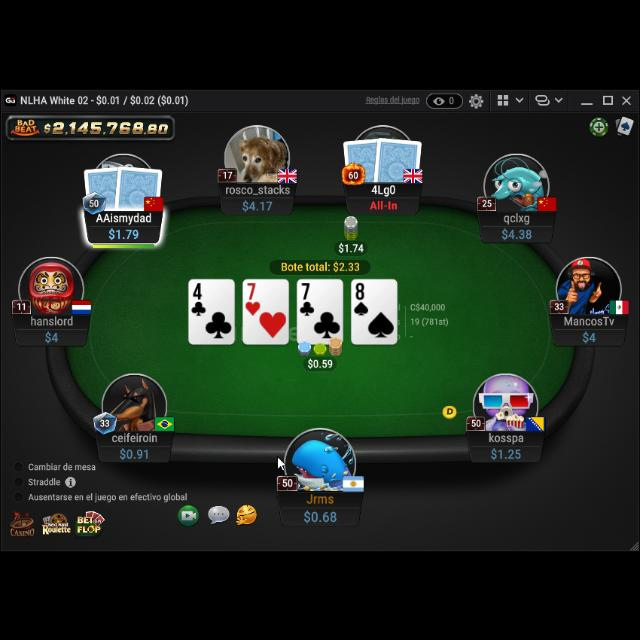4c: (190, 280, 207, 318)
7c: (298, 280, 316, 316)
7h: (244, 281, 262, 317)
8s: (352, 280, 370, 316)
all_in_symbol: (368, 197, 399, 209)
bet_text: (306, 356, 334, 368), (338, 240, 364, 252)
card_back: (373, 134, 423, 184), (114, 162, 164, 212), (82, 162, 126, 212), (342, 136, 384, 182)
dealer: (441, 402, 459, 418)
pot_text: (280, 259, 362, 271)
stack_text: (301, 506, 339, 524), (240, 196, 276, 212), (106, 224, 140, 240), (501, 224, 534, 238), (118, 445, 150, 459), (490, 444, 522, 458), (580, 327, 598, 341), (44, 328, 60, 342)
